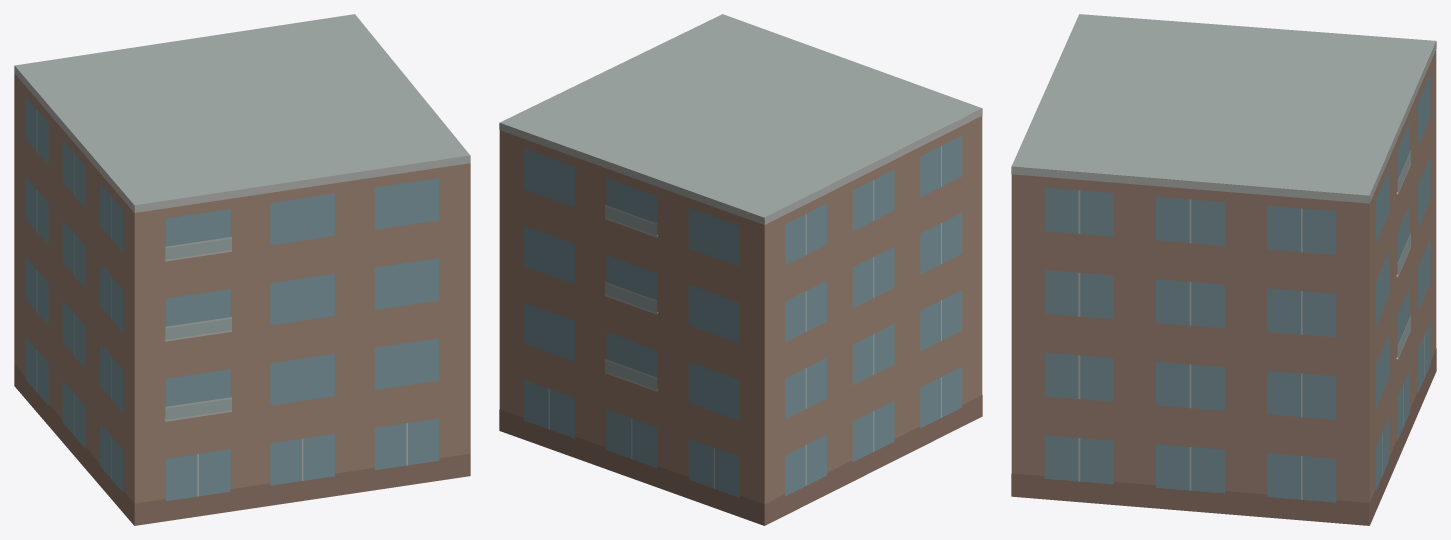
File: survey-upis-32529283.glb
3 views of the same model, side by side, from view 1: azimuth 30°, elevation 25°; view 2: azimuth 150°, elevation 25°; view 3: azimuth 270°, elevation 25° (orthographic). The views are drawn at different scales.
Parts seen in each view (by area): view 1: survey-upis-32529283.tmp; view 2: survey-upis-32529283.tmp; view 3: survey-upis-32529283.tmp.
Part boxes in pixels (bbox=[...]): survey-upis-32529283.tmp: bbox=[14, 14, 470, 525]; survey-upis-32529283.tmp: bbox=[499, 14, 982, 525]; survey-upis-32529283.tmp: bbox=[1011, 14, 1436, 525].
Bounding box in the file's own units: 12.11 × 10.25 × 11.97.
